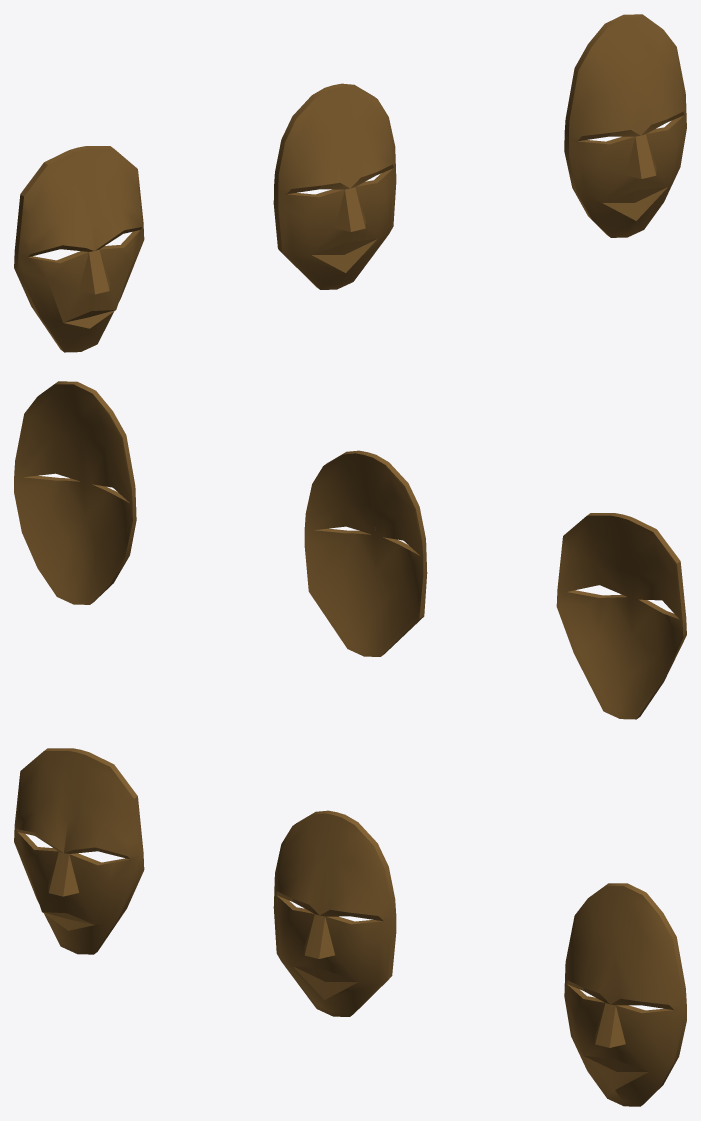
The model's file is JungleMasks.fbx.
The picture shows the model from 3 angles, top to bottom: view 1: azimuth 30°, elevation 25°; view 2: azimuth 150°, elevation 25°; view 3: azimuth 330°, elevation 25°; orthographic projection.
Visible parts, largest first — view 1: Mask._03, Mask_02, Mask_01; view 2: Mask._03, Mask_02, Mask_01; view 3: Mask._03, Mask_02, Mask_01.
Part boxes in pixels (bbox=[...]): Mask._03: bbox=[564, 14, 686, 237]; Mask_02: bbox=[273, 83, 396, 289]; Mask_01: bbox=[14, 146, 144, 352]; Mask._03: bbox=[14, 381, 136, 604]; Mask_02: bbox=[304, 450, 427, 656]; Mask_01: bbox=[556, 513, 686, 719]; Mask._03: bbox=[564, 883, 686, 1106]; Mask_02: bbox=[273, 810, 396, 1016]; Mask_01: bbox=[14, 748, 144, 954].
Size of the model in its own units: 2.03 by 0.6405 by 0.1322.
